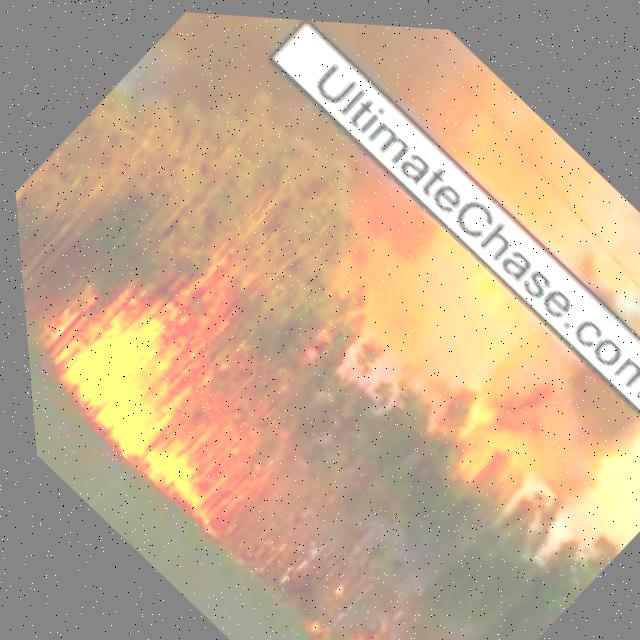Fire: (82, 4, 640, 583), (249, 13, 640, 328), (30, 271, 291, 528), (327, 622, 372, 640)
